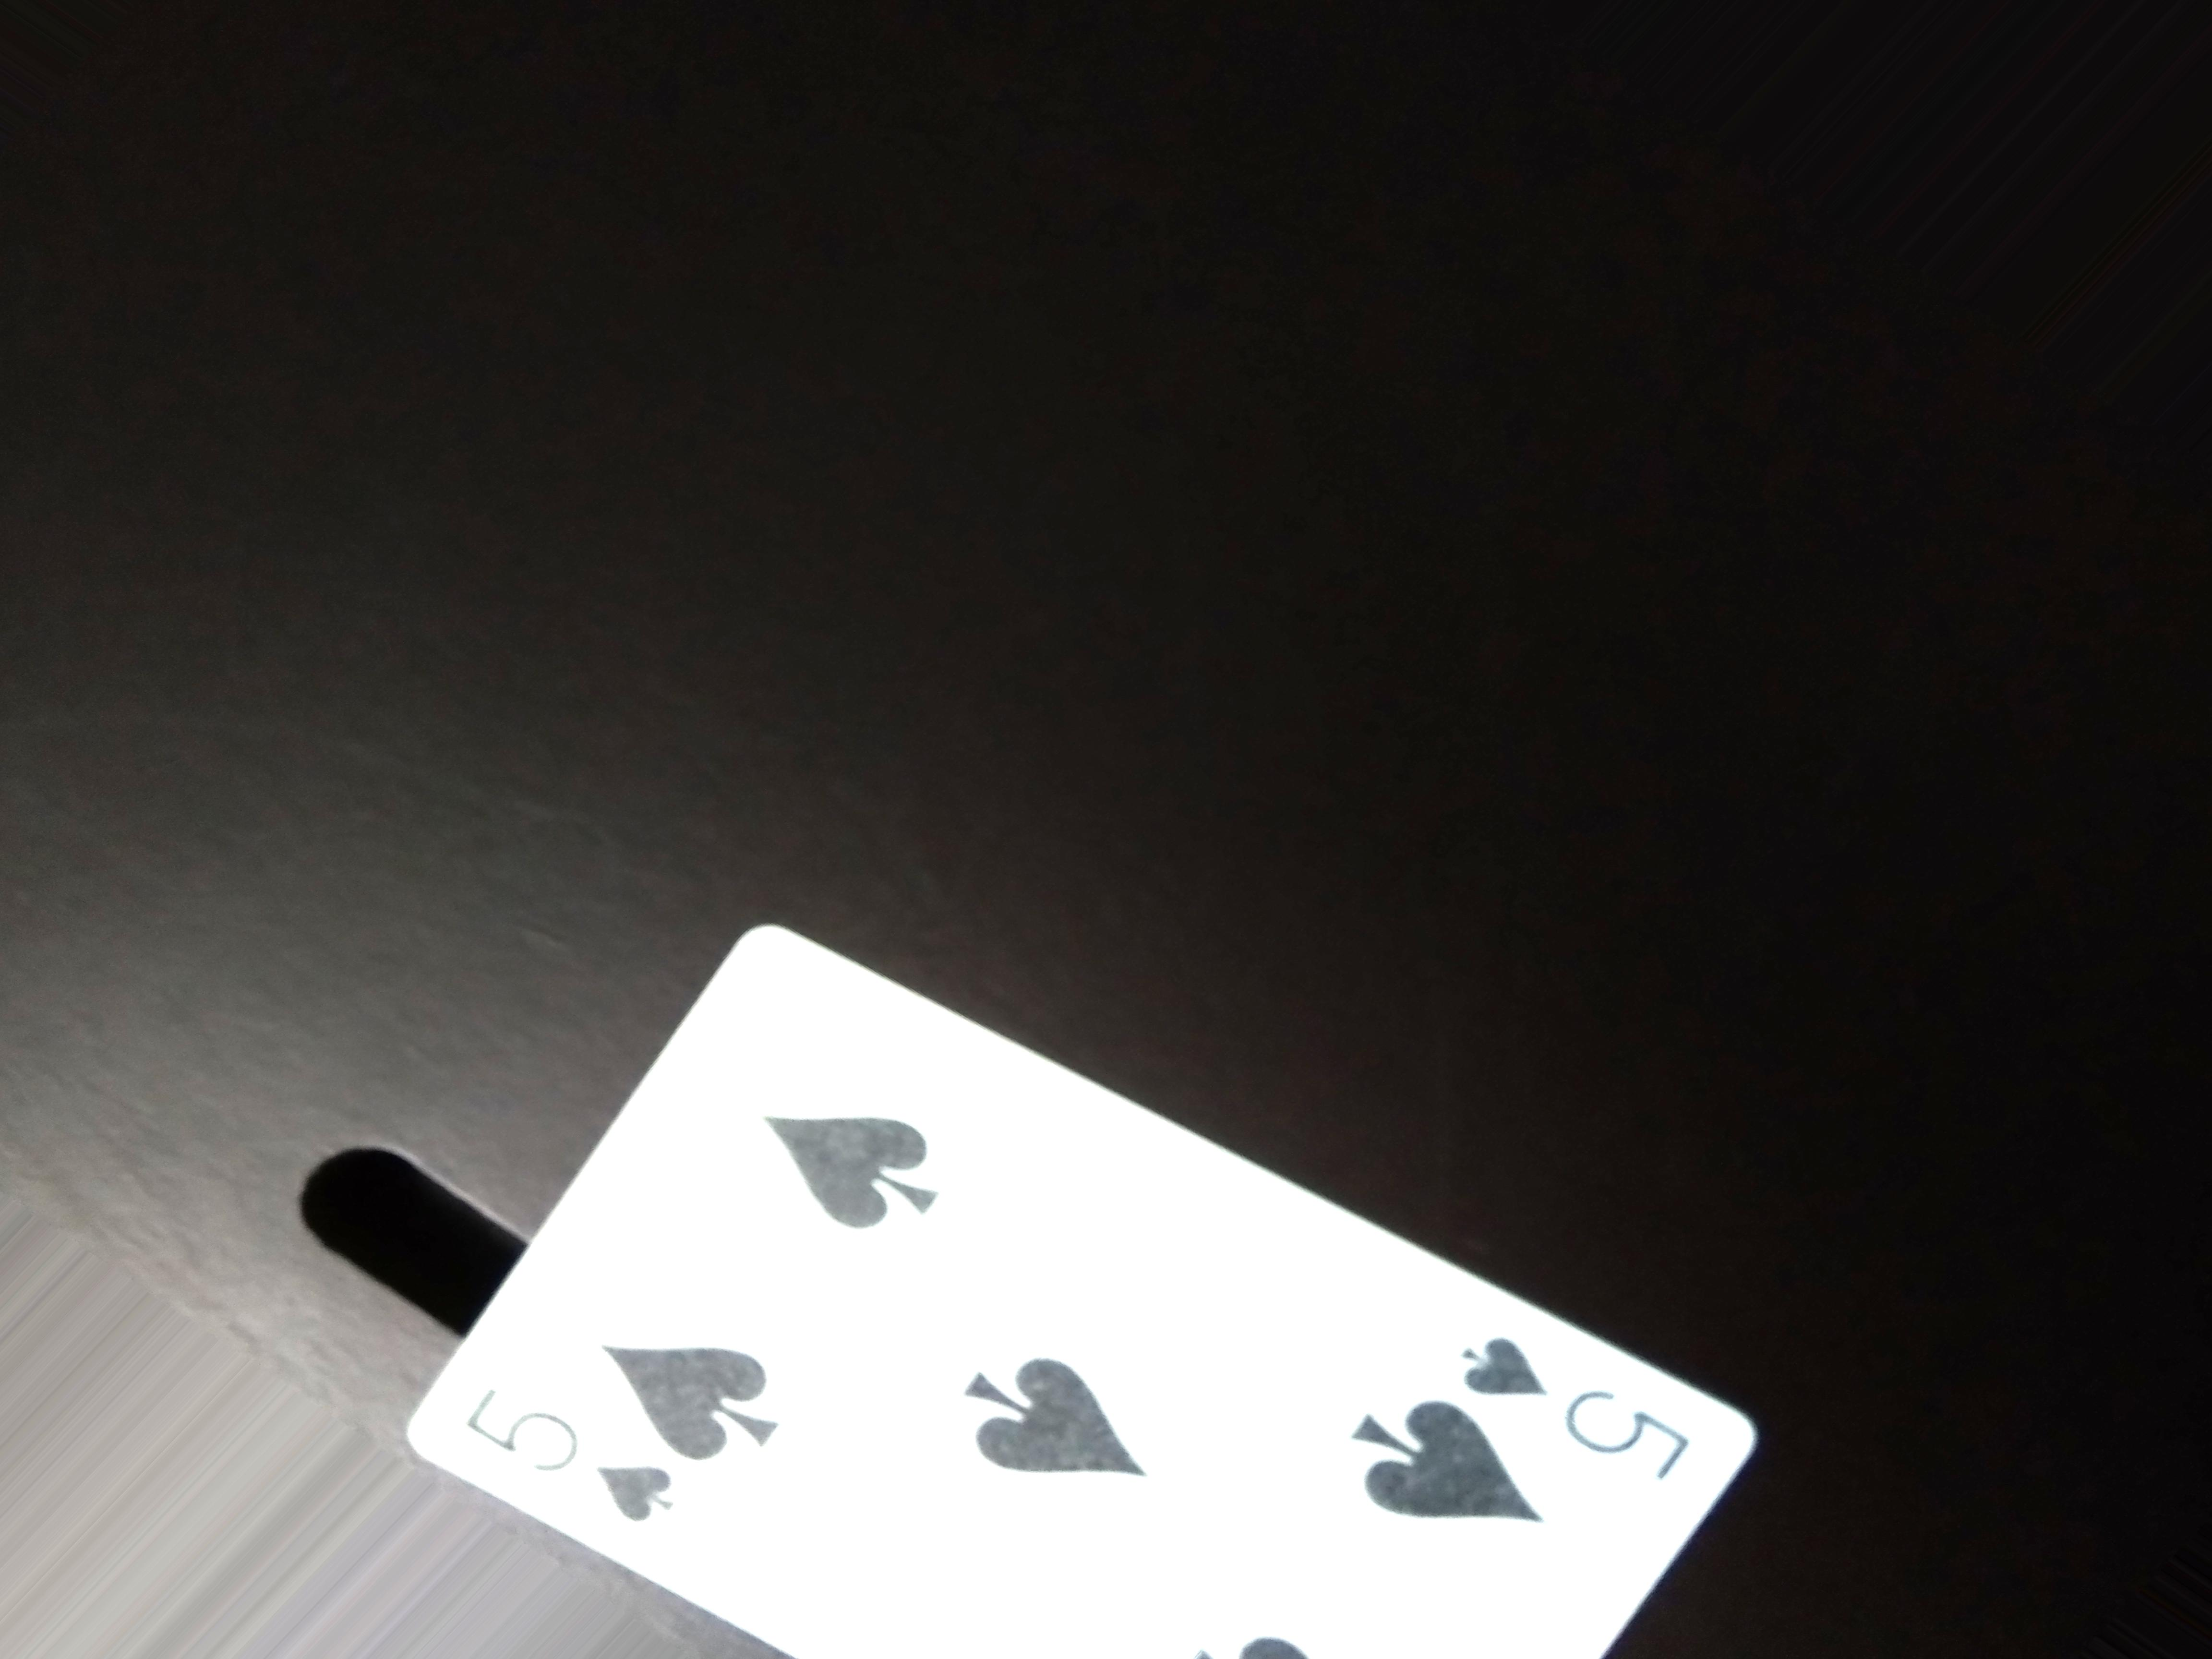5S: (1454, 1317, 1696, 1502)
